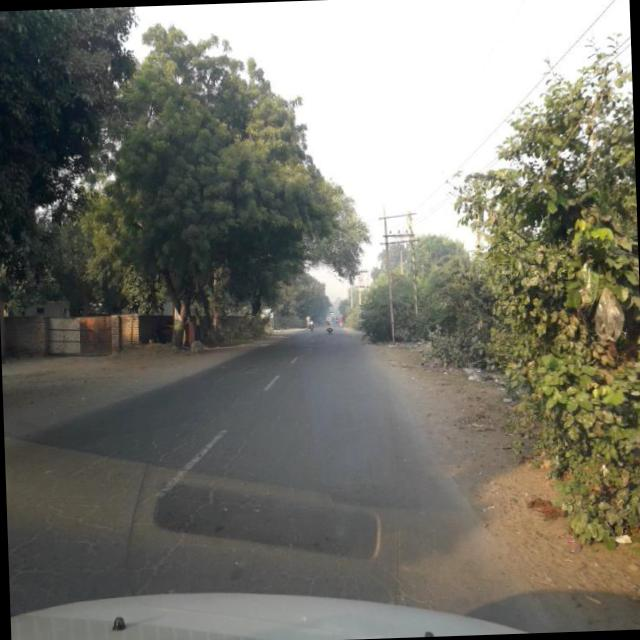crack: (5, 425, 254, 597)
